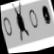correct: (39, 2, 52, 26)
not correct: (11, 0, 30, 42)
